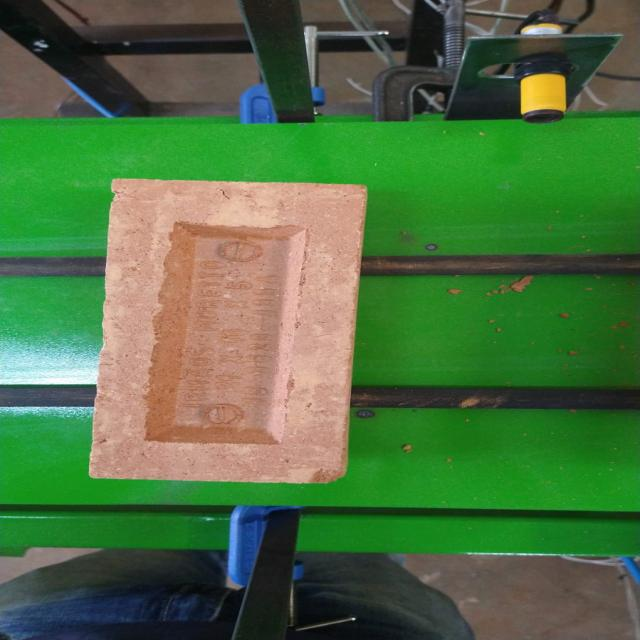bricks: (84, 176, 365, 480)
